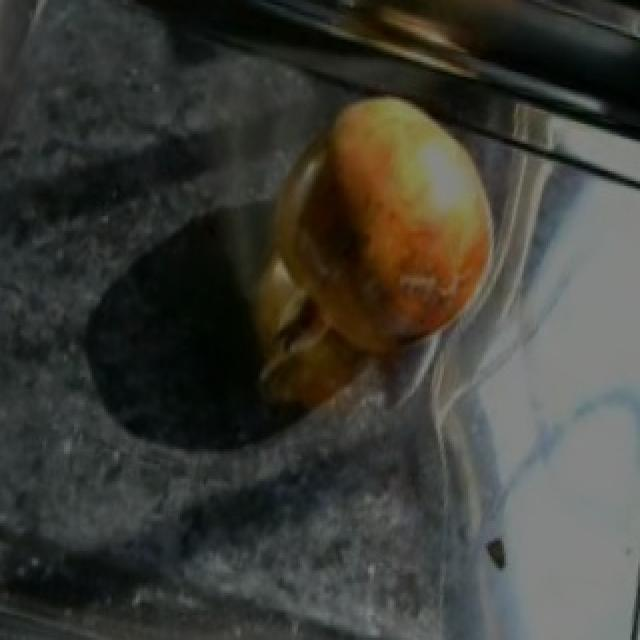fruit: (258, 62, 530, 345)
